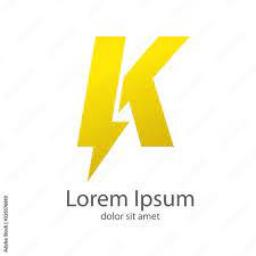k: (73, 32, 193, 188)
